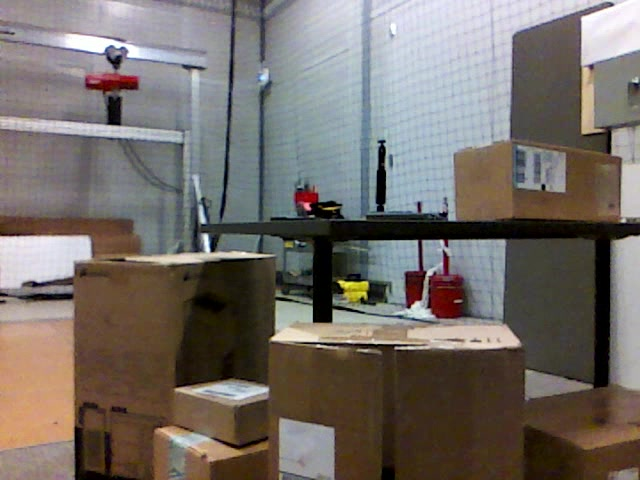box: (73, 256, 278, 480), (269, 322, 527, 480), (454, 142, 622, 219), (527, 384, 640, 474), (174, 377, 268, 445), (155, 423, 266, 480)
